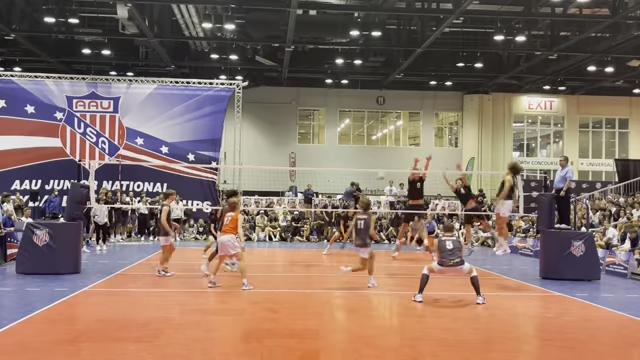attacco: (487, 156, 527, 259)
muro: (443, 155, 503, 257), (388, 150, 440, 263)
